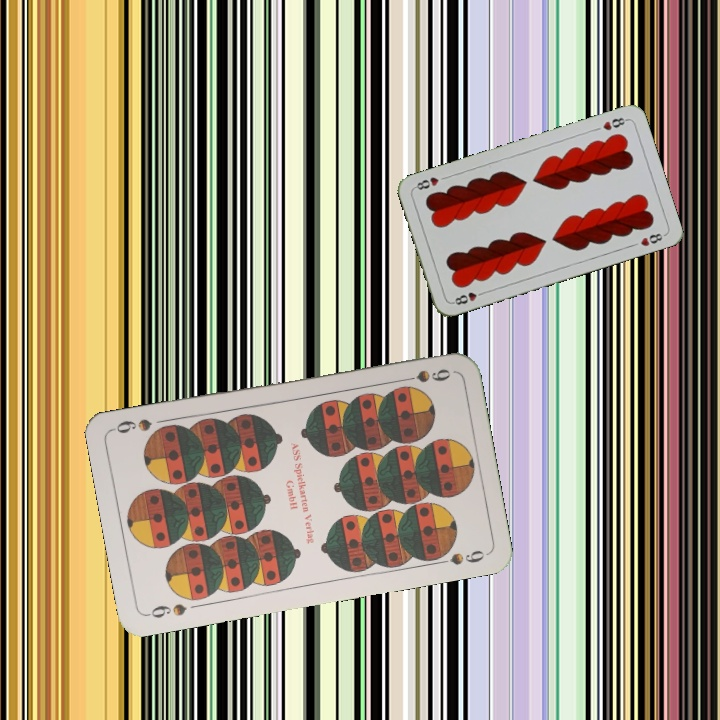H8: (448, 287, 488, 308), (599, 113, 630, 133)
S9: (395, 364, 453, 385), (142, 599, 189, 621)
